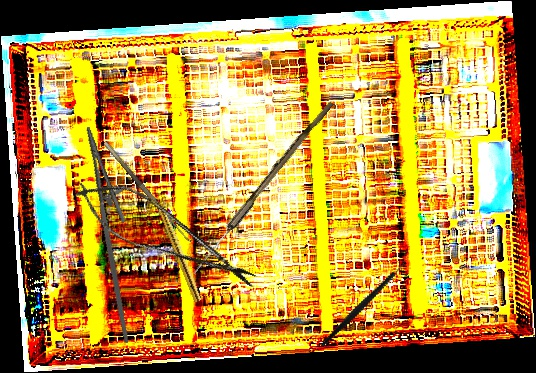Chopper: (300, 252, 428, 348)
Handpiece: (152, 193, 204, 303)
Hook Surgical: (103, 136, 196, 245)
Micro Scissor: (64, 165, 268, 303)
Needle Holder: (60, 121, 170, 344)
Surgical Spoon: (190, 98, 334, 278)
